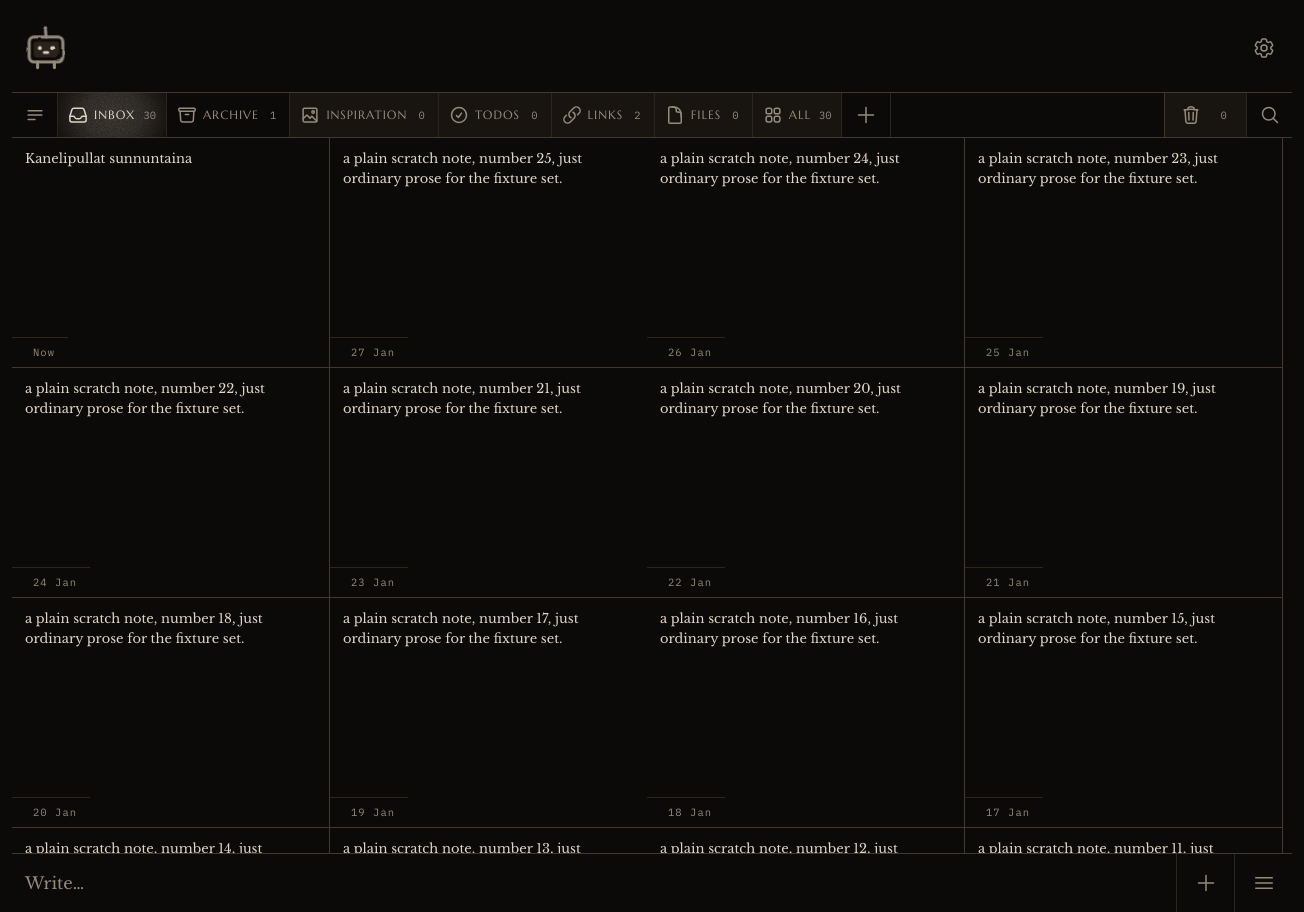
Test: App › keeps the selection's verbs behind the burger
The width and height of the screenshot is (1304, 912).
Right-click the button "Kanelipullat sunnuntaina Now" at (109, 158), box [12,138,330,368]
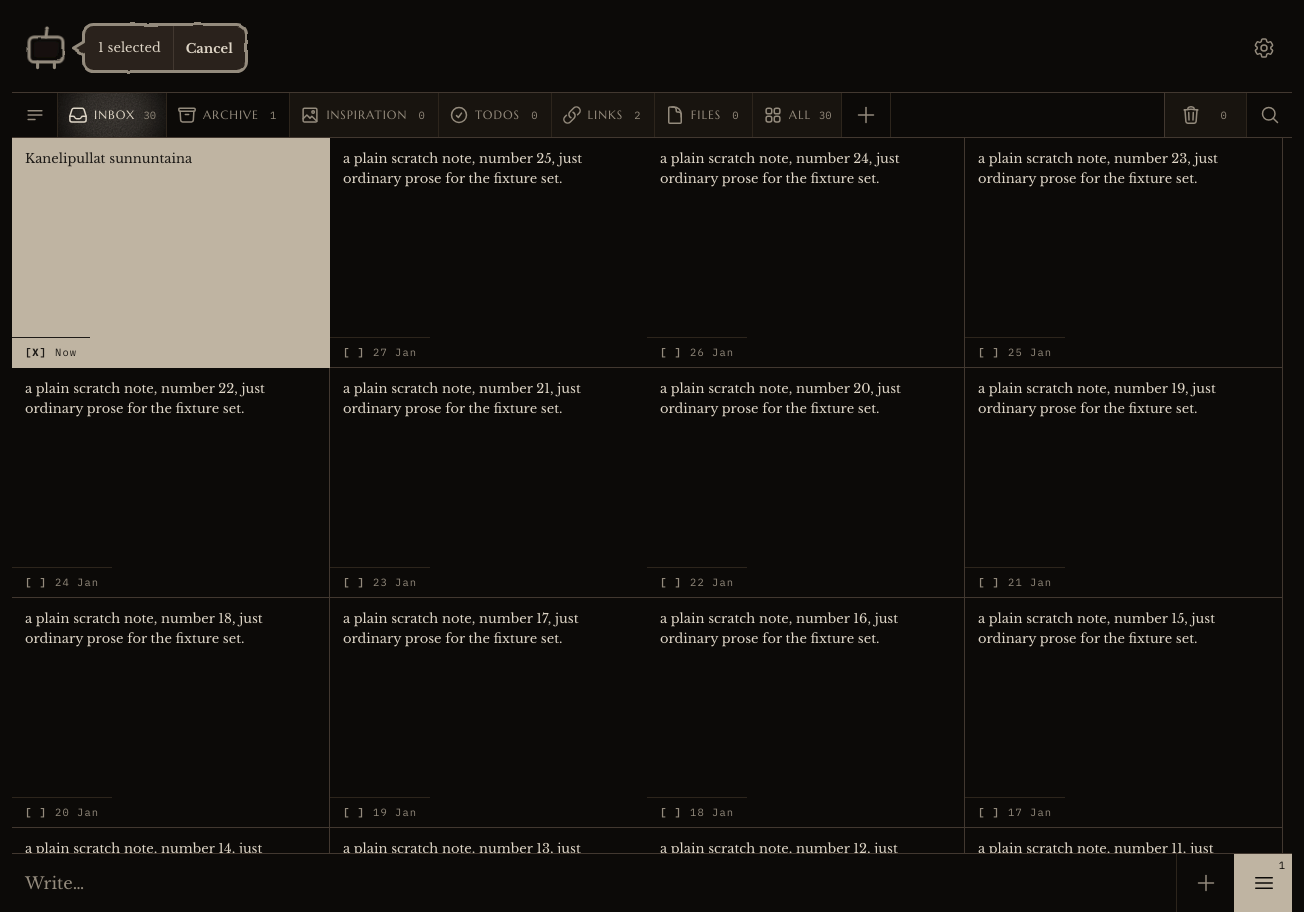
Expected: the text "1 selected" is shown, [98,40,161,56]
Expected: the button named "Menu, 1 selected" reads "1"
Click the button named "Menu, 1 selected" at (1263, 883), box [1234,854,1292,911]
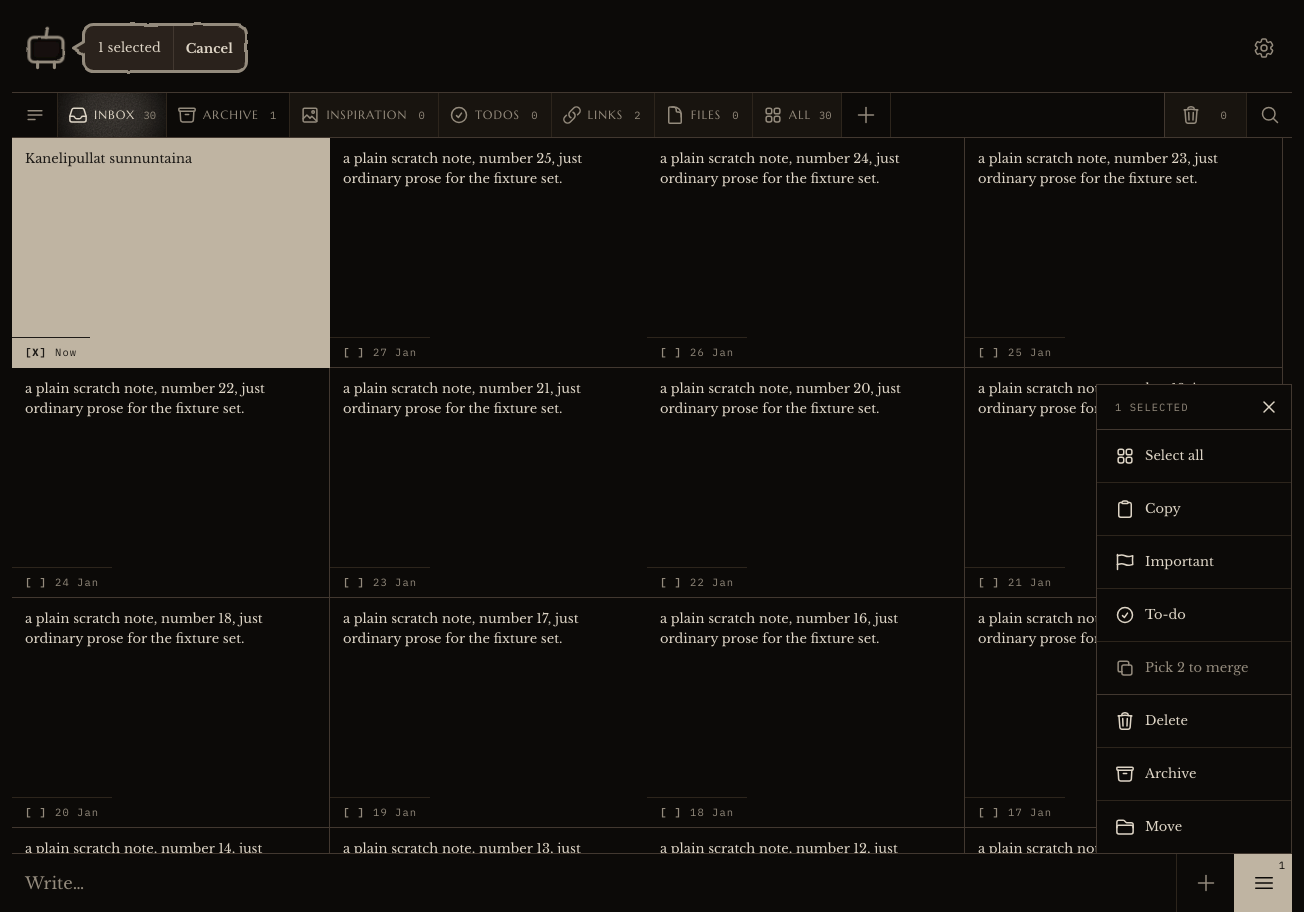
Expected: the button "Move" is shown, [1097,800,1291,853]
Click the button named "Close menu" at (652, 462), box [12,12,1292,911]
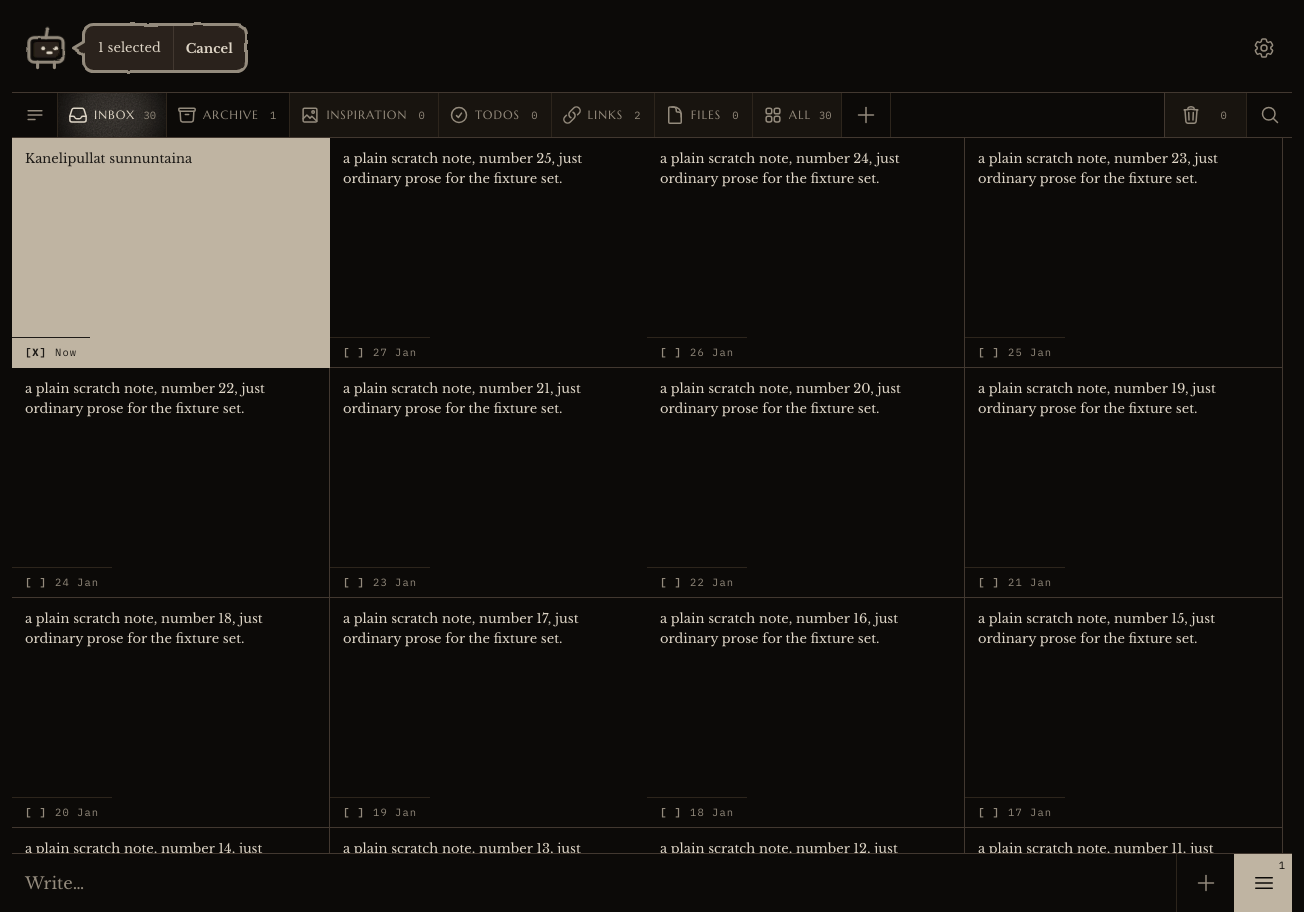
Expected: the text "1 selected" is shown, [98,40,161,56]
Click the button "1" at (1263, 883), box [1234,854,1292,911]
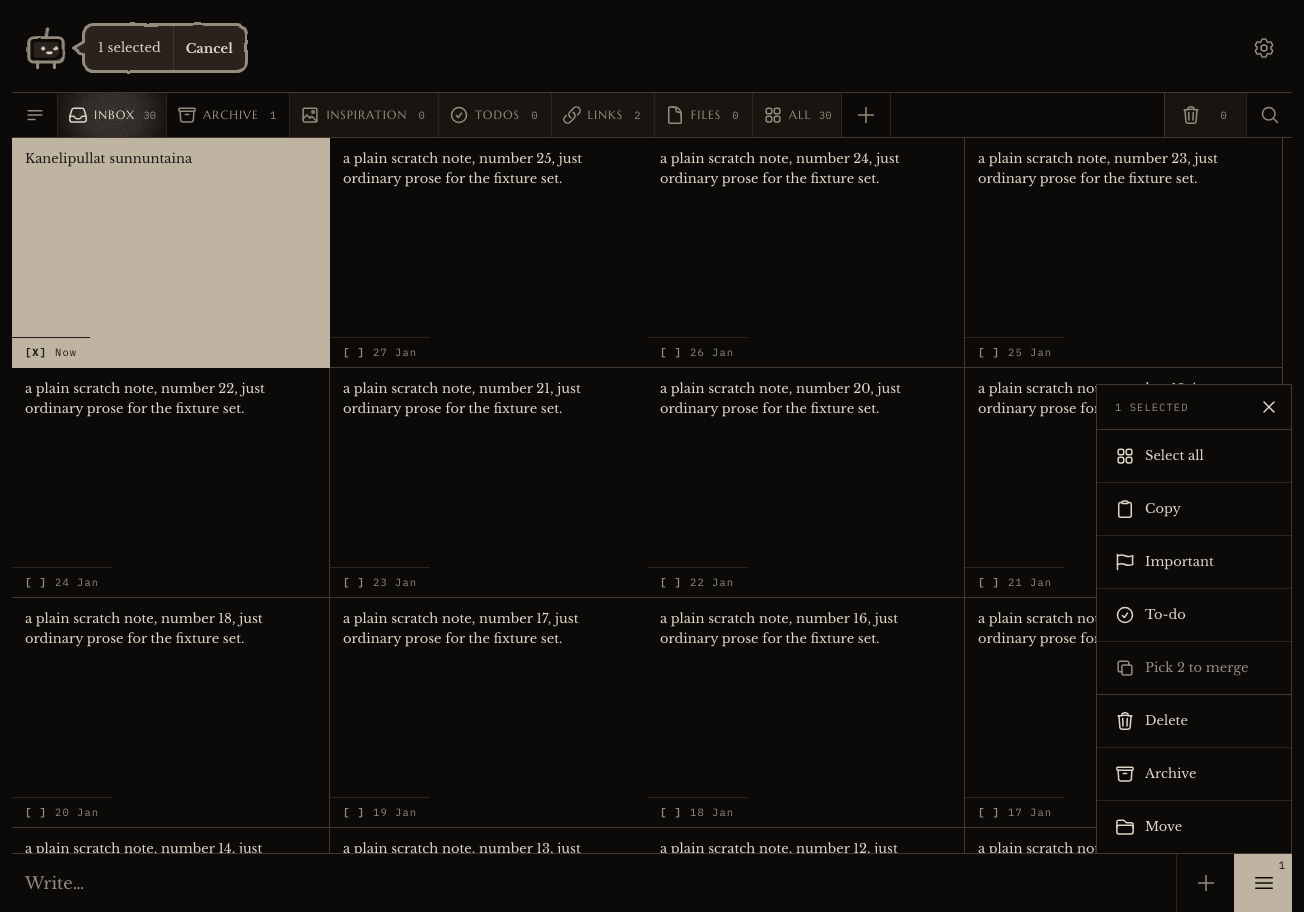
Click the button "Important" at (1194, 562), box [1097,535,1291,588]
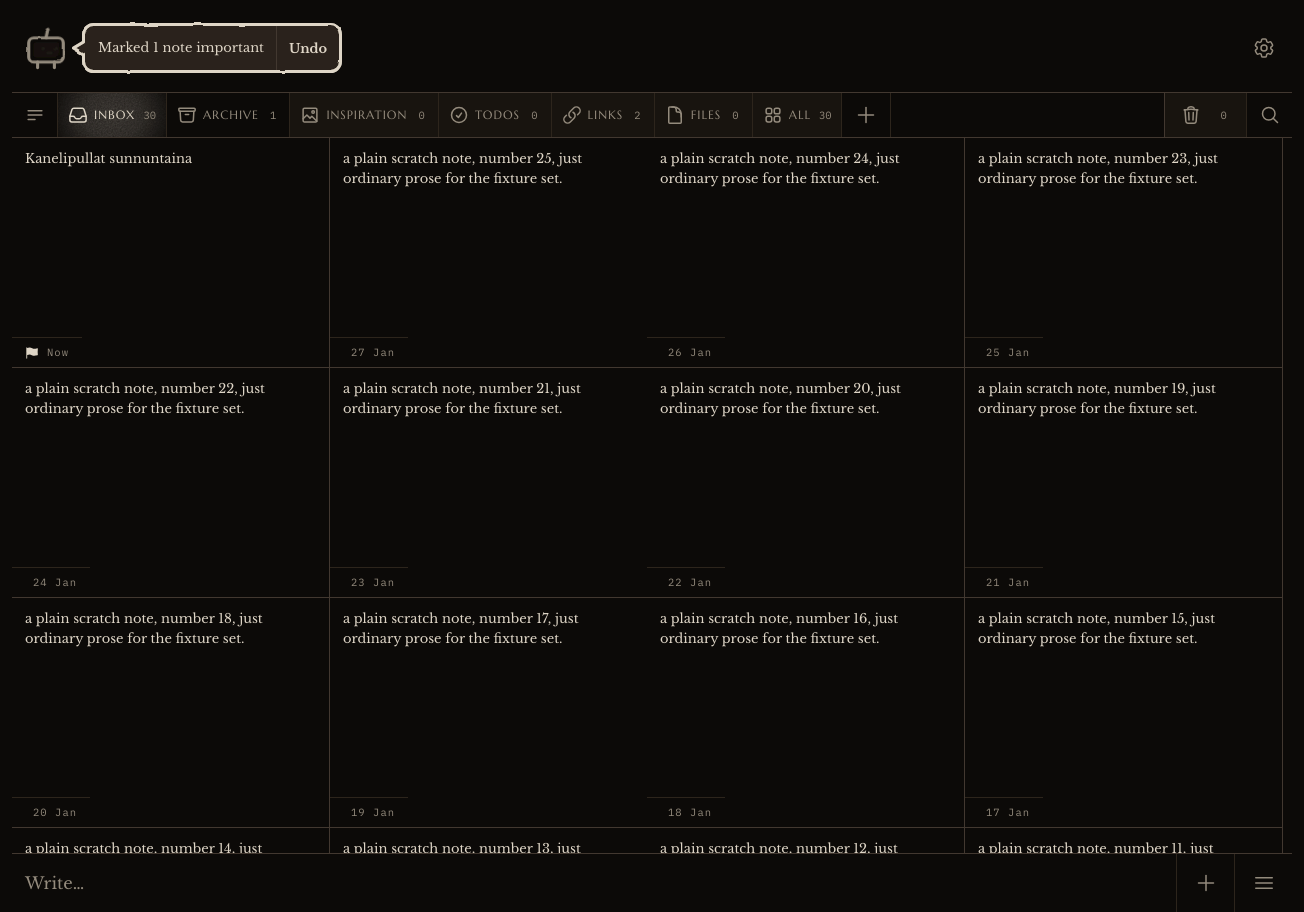
Expected: the text "selected" is gone
Click the button named "Menu" at (1263, 883), box [1234,854,1292,911]
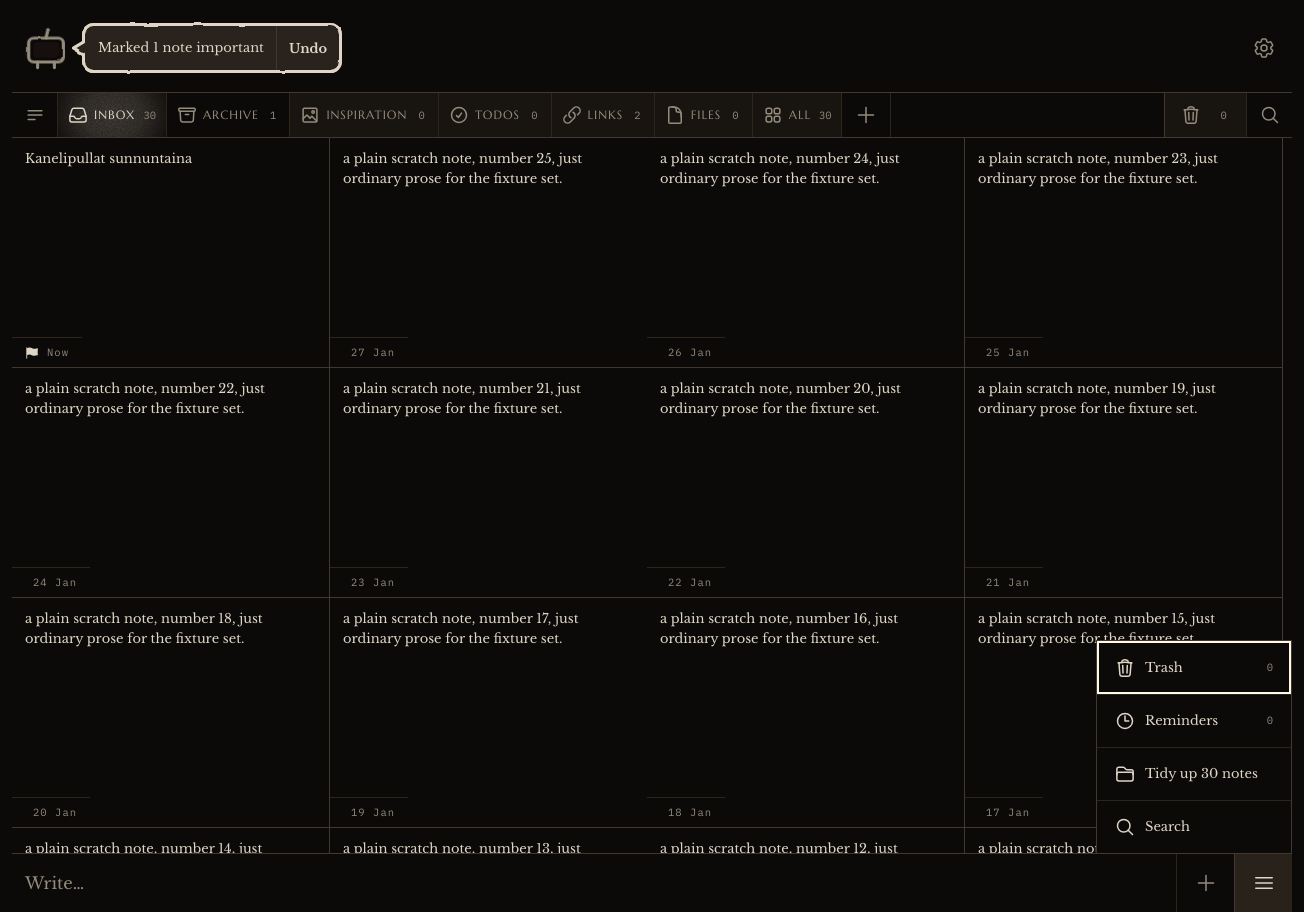
Expected: the menu named "Menu" is shown, [1096,640,1292,854]
